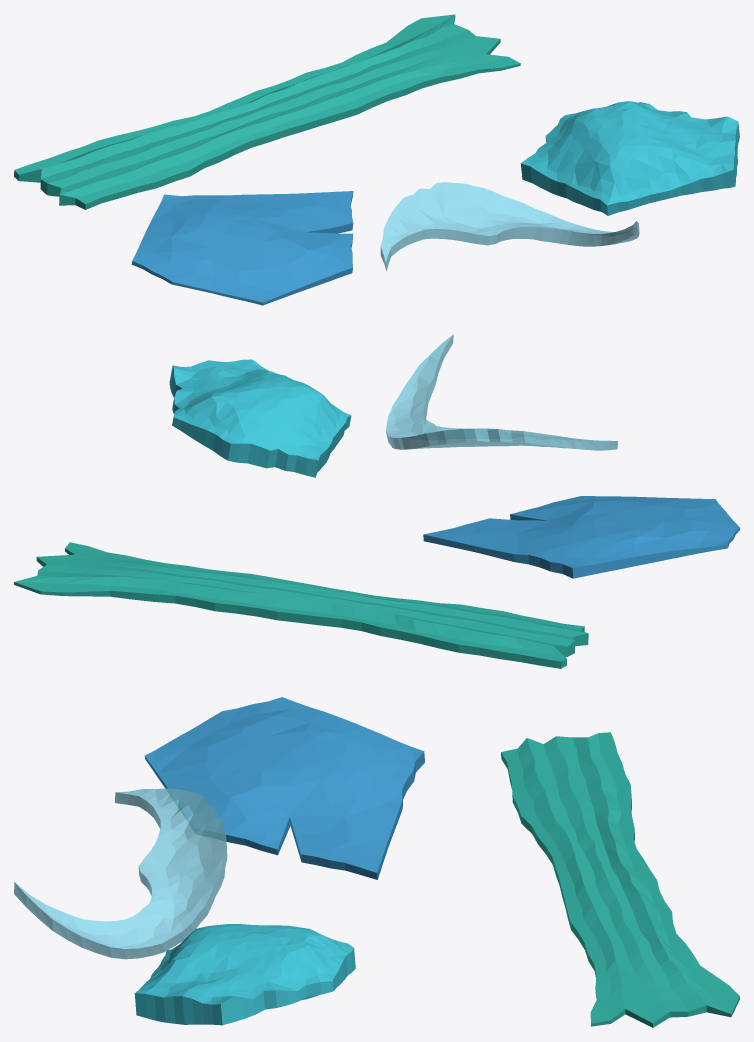
File: fragmen.glb
3 renders of one model, top to bottom at view 1: azimuth 30°, elevation 25°; view 2: azimuth 150°, elevation 25°; view 3: azimuth 270°, elevation 25°, orthographic. The views are drawn at different scales.
Parts seen in each view (by area): view 1: fragmen; view 2: fragmen; view 3: fragmen.
Part boxes in pixels (x1=…): fragmen: x1=14, y1=14, x2=739, y2=305; fragmen: x1=14, y1=334, x2=739, y2=668; fragmen: x1=14, y1=697, x2=739, y2=1027.
Bounding box in the file's own units: 0.3072 × 0.0313 × 0.2866.
